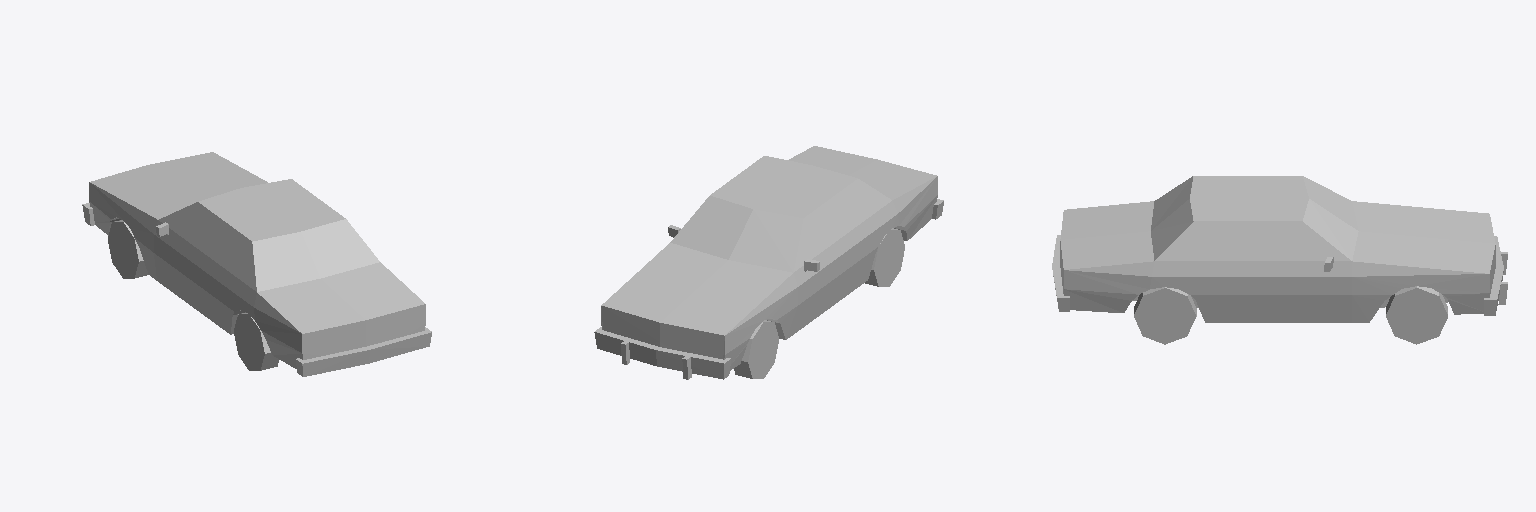
The model's file is Car5_o3.obj.
3 views of the same model, side by side, from view 1: azimuth 30°, elevation 25°; view 2: azimuth 150°, elevation 25°; view 3: azimuth 270°, elevation 25° (orthographic).
Parts seen in each view (by area): view 1: Car5; view 2: Car5; view 3: Car5.
Boxes of the visible parts, <box> form: Car5: <box>82,152,431,376</box>; Car5: <box>594,146,943,379</box>; Car5: <box>1052,176,1507,344</box>.
Size of the model in its own units: 1.27 by 0.9368 by 3.37.